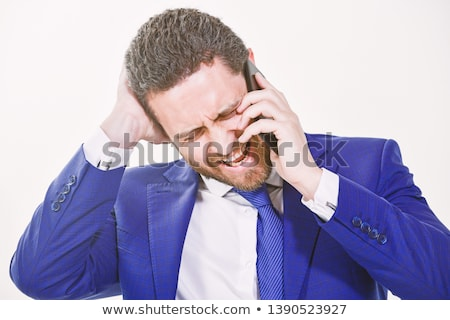phone: (233, 58, 298, 157)
talk: (168, 62, 334, 199)
